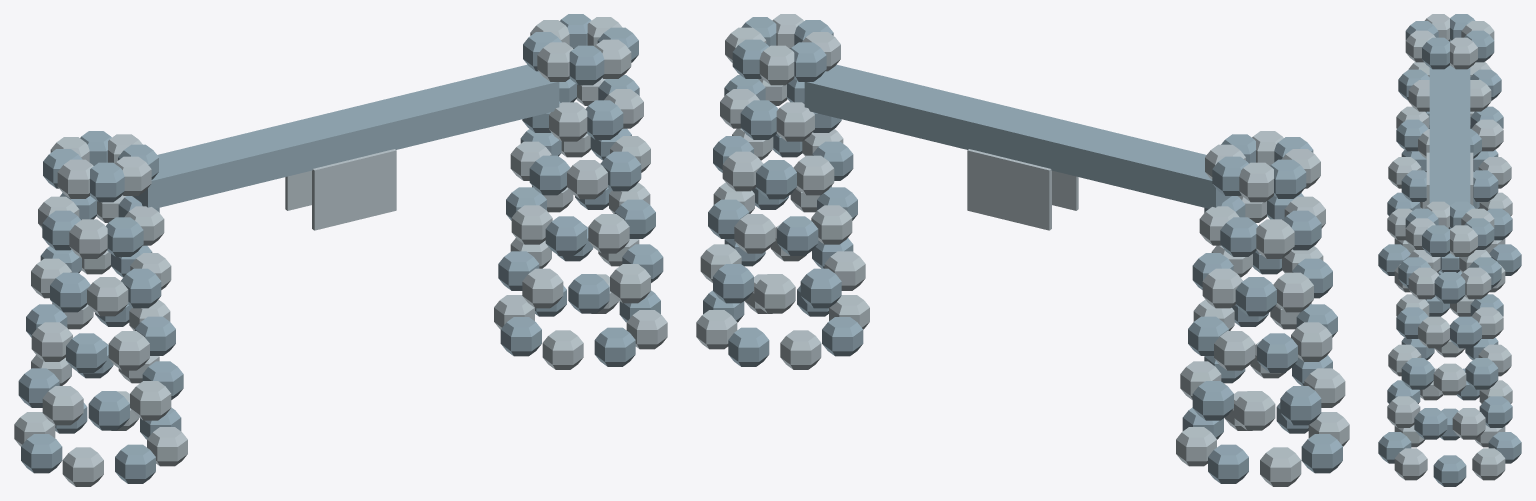
File: owl_gate_broken.glb
The picture shows the model from 3 angles, left to right: view 1: azimuth 30°, elevation 25°; view 2: azimuth 150°, elevation 25°; view 3: azimuth 270°, elevation 25°; orthographic projection. The views are drawn at different scales.
Visible parts, largest first — view 1: owl_gate_piece4, owl_gate_piece7, owl_gate_piece2, owl_gate_piece5, owl_gate_piece0, owl_gate_piece1, owl_gate_piece6, owl_gate_piece8, owl_gate_piece13, owl_gate_piece10, owl_gate_piece3; view 2: owl_gate_piece4, owl_gate_piece0, owl_gate_piece7, owl_gate_piece6, owl_gate_piece1, owl_gate_piece5, owl_gate_piece13, owl_gate_piece2; view 3: owl_gate_piece1, owl_gate_piece4, owl_gate_piece2, owl_gate_piece6, owl_gate_piece0, owl_gate_piece7, owl_gate_piece5, owl_gate_piece13, owl_gate_piece8, owl_gate_piece11, owl_gate_piece10.
Boxes of the visible parts, bbox=[...] form: owl_gate_piece4: bbox=[31, 131, 216, 424]; owl_gate_piece7: bbox=[208, 100, 467, 230]; owl_gate_piece2: bbox=[494, 70, 667, 366]; owl_gate_piece5: bbox=[467, 22, 622, 289]; owl_gate_piece0: bbox=[14, 299, 183, 482]; owl_gate_piece1: bbox=[503, 21, 663, 322]; owl_gate_piece6: bbox=[383, 14, 616, 143]; owl_gate_piece8: bbox=[69, 384, 171, 486]; owl_gate_piece13: bbox=[26, 216, 152, 361]; owl_gate_piece10: bbox=[546, 287, 630, 369]; owl_gate_piece3: bbox=[147, 192, 396, 466]; owl_gate_piece4: bbox=[1130, 131, 1337, 368]; owl_gate_piece0: bbox=[1176, 277, 1349, 486]; owl_gate_piece7: bbox=[938, 89, 1175, 230]; owl_gate_piece6: bbox=[722, 29, 956, 197]; owl_gate_piece1: bbox=[696, 14, 803, 369]; owl_gate_piece5: bbox=[738, 14, 884, 308]; owl_gate_piece13: bbox=[1127, 169, 1332, 372]; owl_gate_piece2: bbox=[745, 101, 865, 369]; owl_gate_piece1: bbox=[1405, 225, 1521, 486]; owl_gate_piece4: bbox=[1388, 14, 1499, 207]; owl_gate_piece2: bbox=[1382, 259, 1487, 480]; owl_gate_piece6: bbox=[1429, 168, 1503, 319]; owl_gate_piece0: bbox=[1393, 167, 1521, 292]; owl_gate_piece7: bbox=[1426, 92, 1473, 205]; owl_gate_piece5: bbox=[1405, 202, 1502, 380]; owl_gate_piece13: bbox=[1470, 77, 1511, 178]; owl_gate_piece8: bbox=[1378, 201, 1414, 255]; owl_gate_piece11: bbox=[1378, 251, 1410, 275]; owl_gate_piece10: bbox=[1378, 386, 1400, 460].
Bounding box in the file's own units: 4.59 × 2.1 × 1.13.
